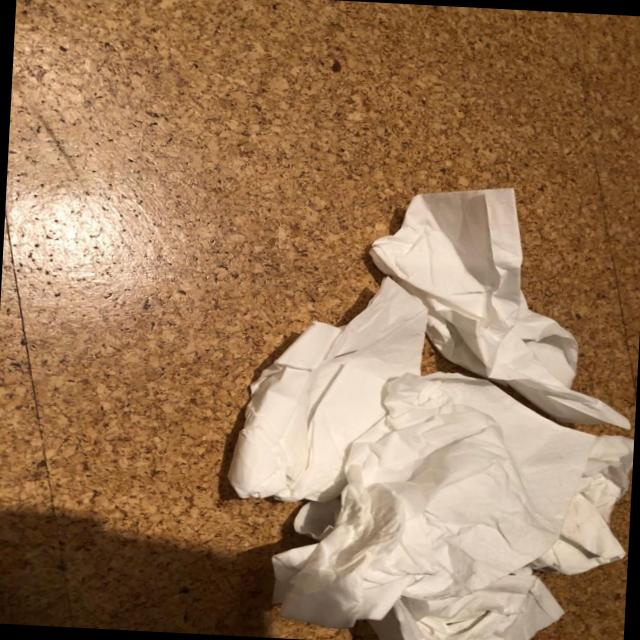organic waste: (265, 360, 591, 640), (345, 176, 640, 433), (222, 268, 434, 510), (408, 371, 637, 579), (355, 556, 588, 640)
